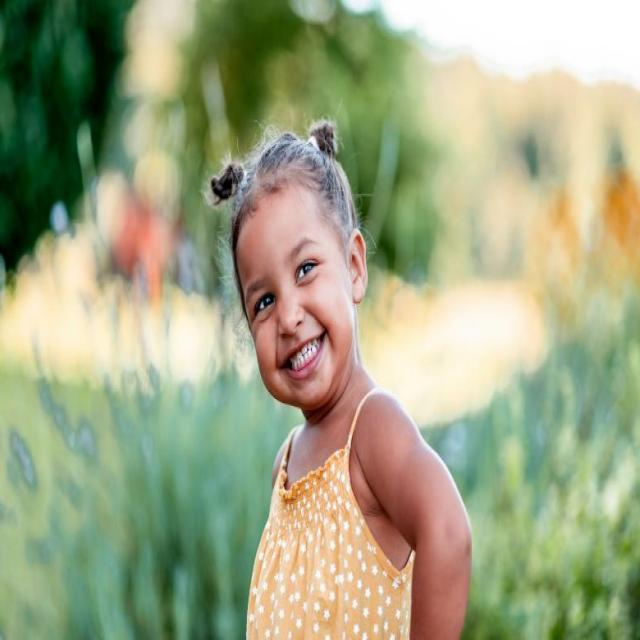child: (210, 117, 483, 640)
